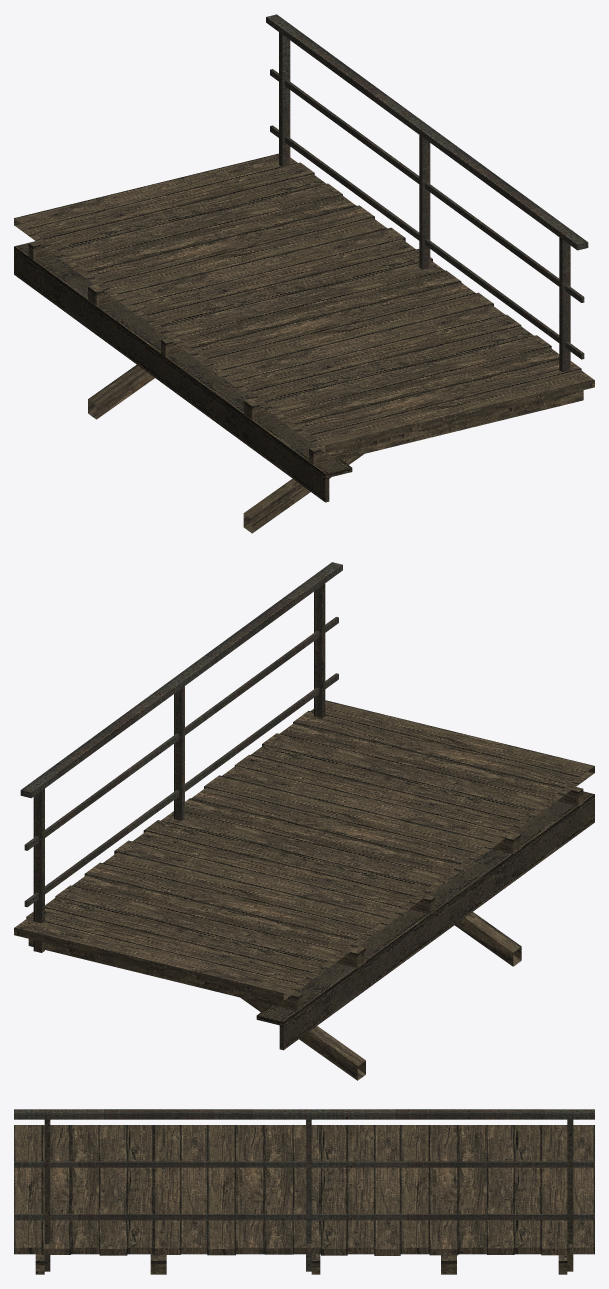
The model's file is platform_ax_2.glb.
3 renders of one model, top to bottom at view 1: azimuth 30°, elevation 25°; view 2: azimuth 150°, elevation 25°; view 3: azimuth 270°, elevation 25°, orthographic. The views are drawn at different scales.
Visible parts, largest first — view 1: platform_ax_2; view 2: platform_ax_2; view 3: platform_ax_2.
Boxes of the visible parts, x1,y1,x2,y2 form: platform_ax_2: (14,14,594,533); platform_ax_2: (14,562,594,1080); platform_ax_2: (14,1109,594,1274).
Bounding box in the file's own units: 2.03 × 1.99 × 4.
Materials: 2 (2 with a texture image).
